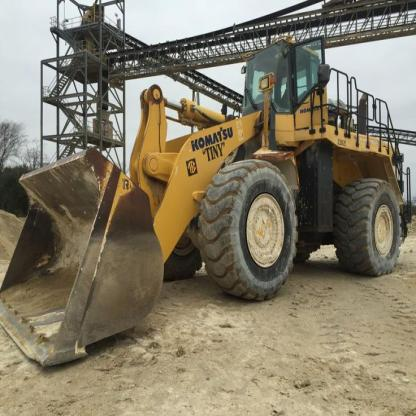bull_dozer/loader/grader: (3, 36, 415, 372)
